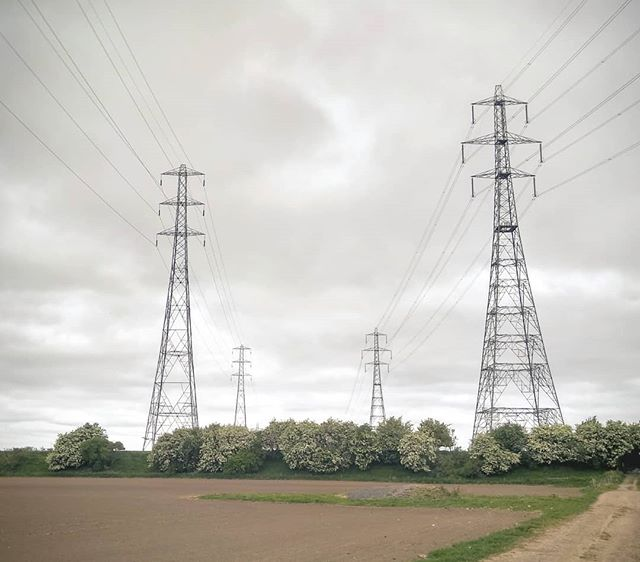power pole: (449, 78, 568, 435), (135, 159, 219, 434), (353, 320, 401, 425), (227, 336, 257, 424)
sky: (1, 1, 635, 393)
vegetation: (4, 416, 639, 477)
